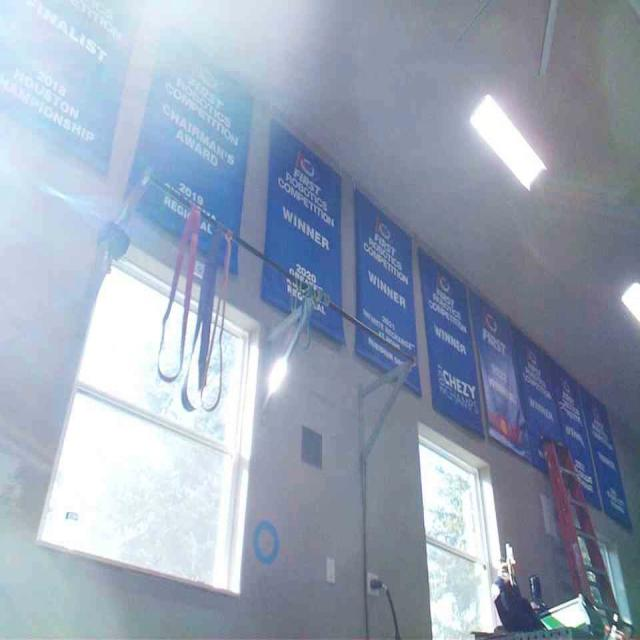ring_blue: (250, 521, 278, 563)
square_black: (301, 423, 322, 467)
